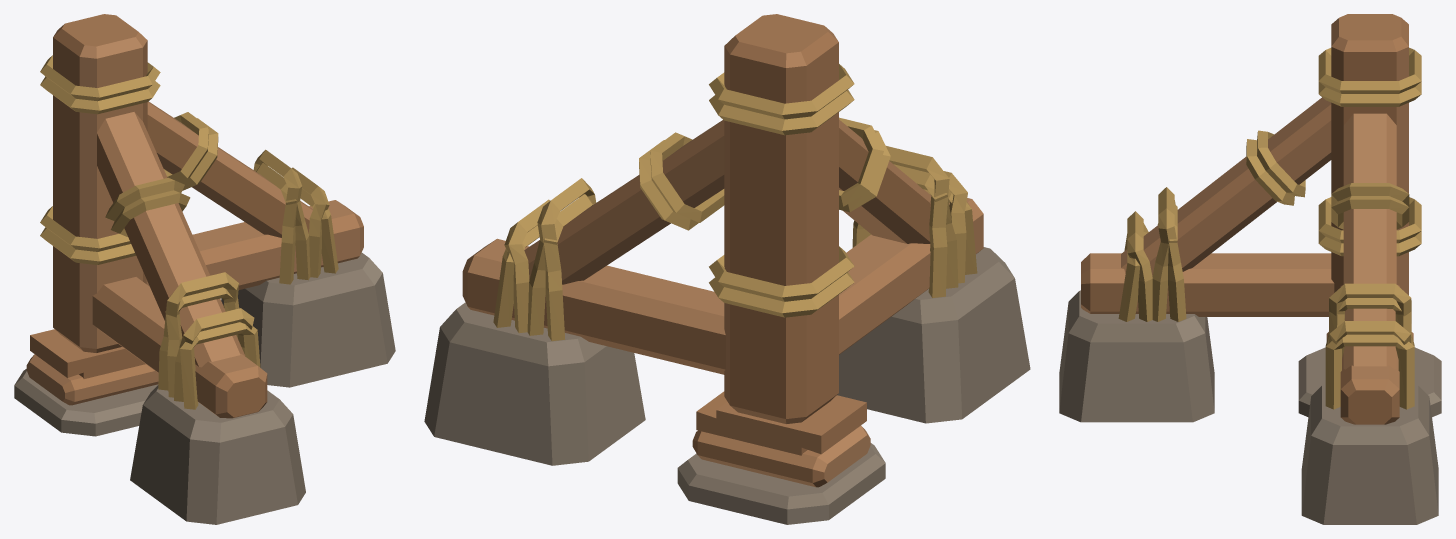
File: adjustable-bay-stilt-426c90.glb
3 renders of one model, left to right at view 1: azimuth 30°, elevation 25°; view 2: azimuth 150°, elevation 25°; view 3: azimuth 270°, elevation 25°, orthographic. The views are drawn at different scales.
Visible parts, largest first — view 1: brace-z-mesh, brace-x-mesh, stilt-post-mesh, foot-mesh; view 2: brace-x-mesh, stilt-post-mesh, brace-z-mesh, foot-mesh; view 3: brace-z-mesh, brace-x-mesh, stilt-post-mesh, foot-mesh.
Boxes of the visible parts, x1,y1,x2,y2 form: brace-z-mesh: [92, 112, 305, 524]; brace-x-mesh: [146, 101, 395, 387]; stilt-post-mesh: [40, 14, 160, 352]; foot-mesh: [14, 329, 158, 436]; brace-x-mesh: [424, 120, 725, 465]; stilt-post-mesh: [709, 14, 854, 423]; brace-z-mesh: [837, 117, 1030, 423]; foot-mesh: [677, 391, 885, 524]; brace-z-mesh: [1059, 97, 1334, 422]; brace-x-mesh: [1301, 113, 1438, 524]; stilt-post-mesh: [1318, 14, 1421, 295]; foot-mesh: [1298, 332, 1441, 417].
Bounding box in the file's own units: 1.23 × 1.3 × 1.23.
